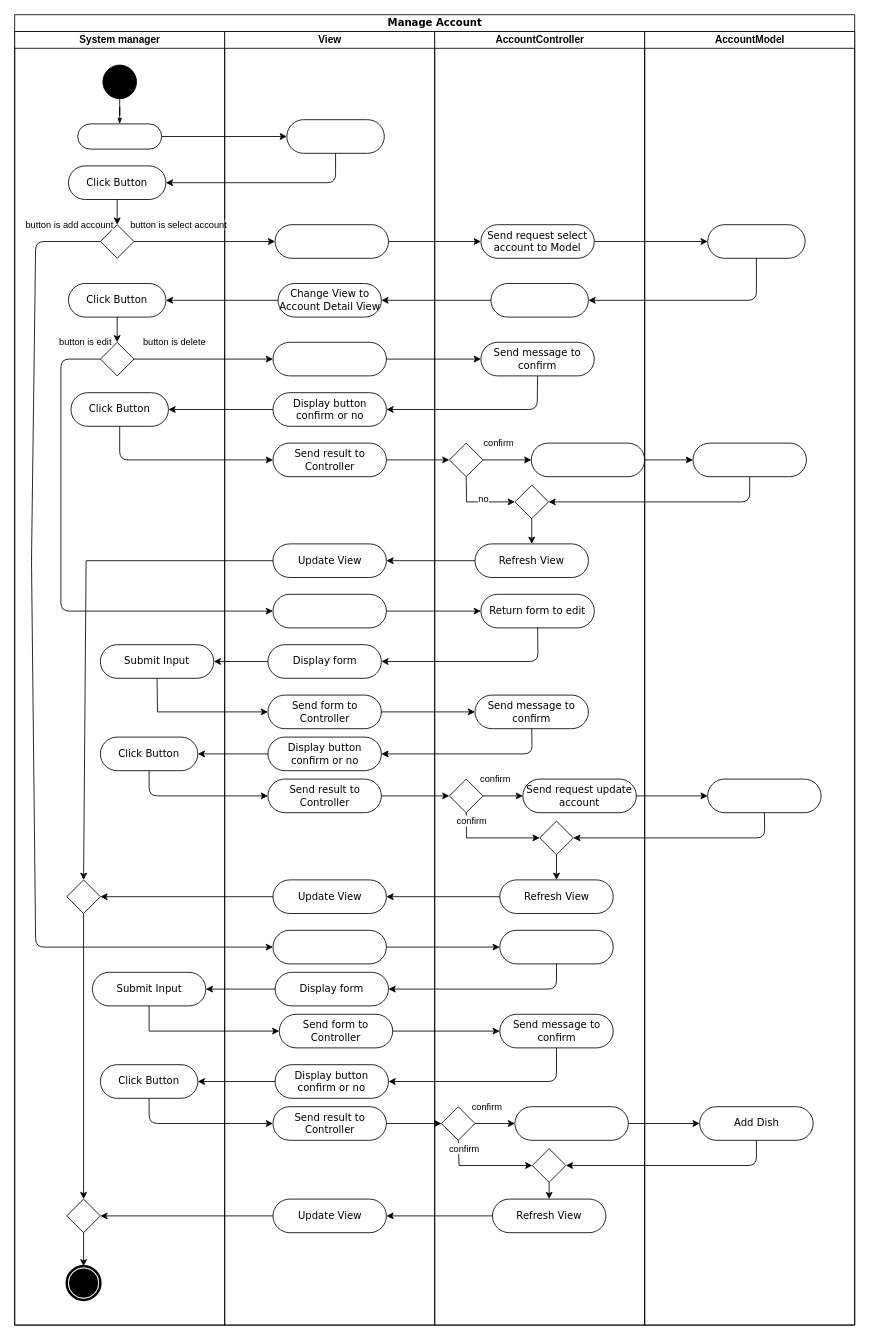
This 869x1340 diagram has some shape labels left out. Each missing label, with the centre of its shape:
"Click manage account button" goes at [119,136].
"Delete Account" goes at [749,459].
"Display Account Detail" goes at [539,300].
"Display manage account interface" goes at [335,136].
"Return Account Data" goes at [756,241].
"Return form to add" goes at [556,946].
"Send request add account to Controller" goes at [329,946].
"Send request add dish" goes at [571,1123].
"Send request delete account" goes at [587,459].
"Send request delete account to Controller" goes at [329,358].
"Send request edit account to Controller" goes at [329,610].
"Send request select account to Controller" goes at [331,241].
"Update Account" goes at [764,795].
